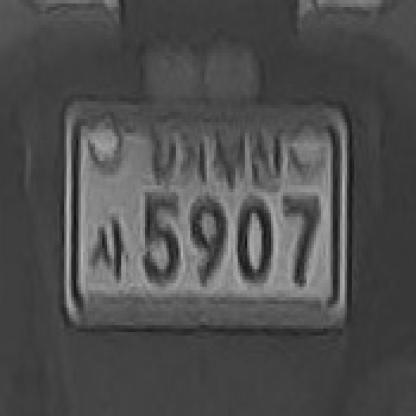bnum: (56, 83, 355, 336)
